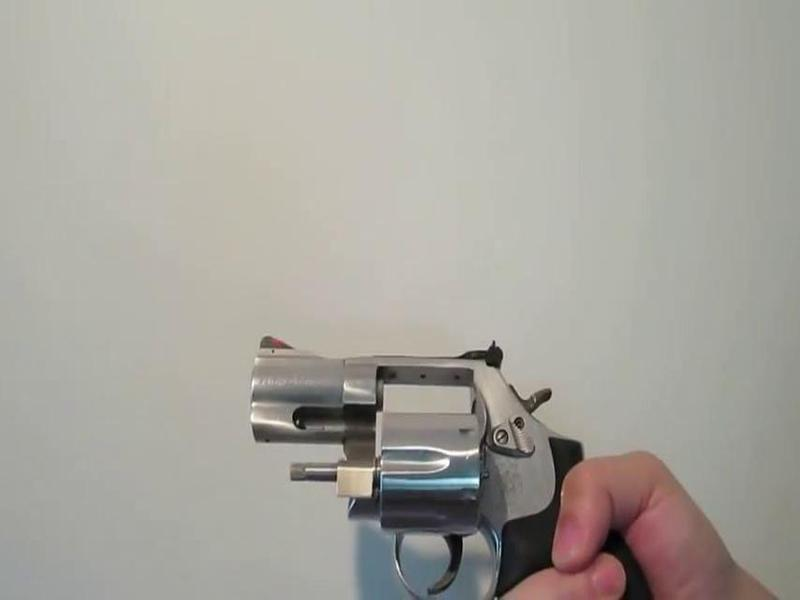Revolver: (223, 291, 704, 600)
